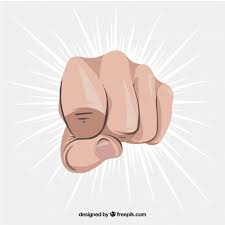fist: (61, 58, 164, 164)
